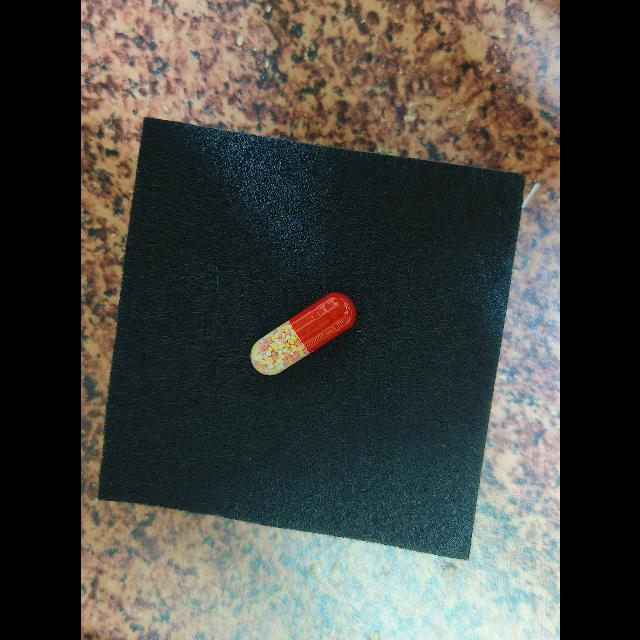Intact Capsule: (250, 292, 355, 376)
